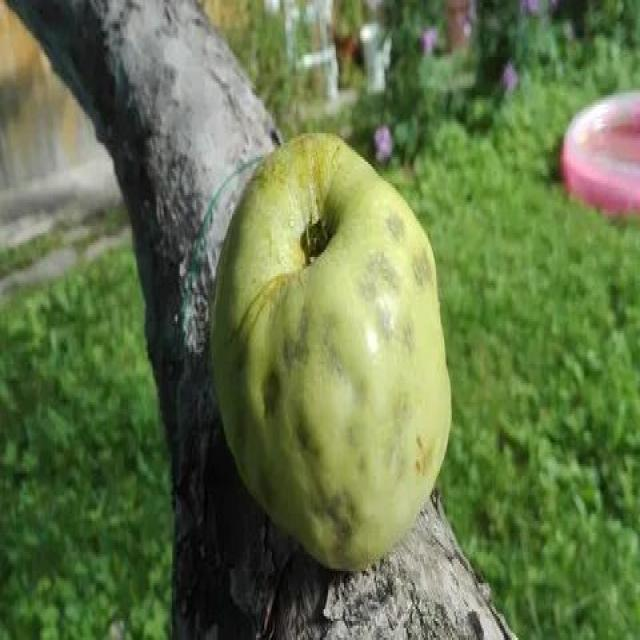Rotten: (205, 140, 470, 567)
